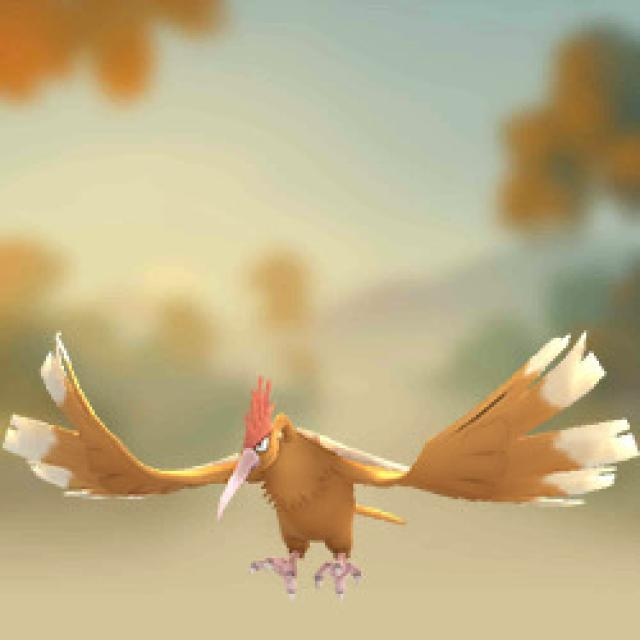Fearow: (92, 378, 522, 588)
